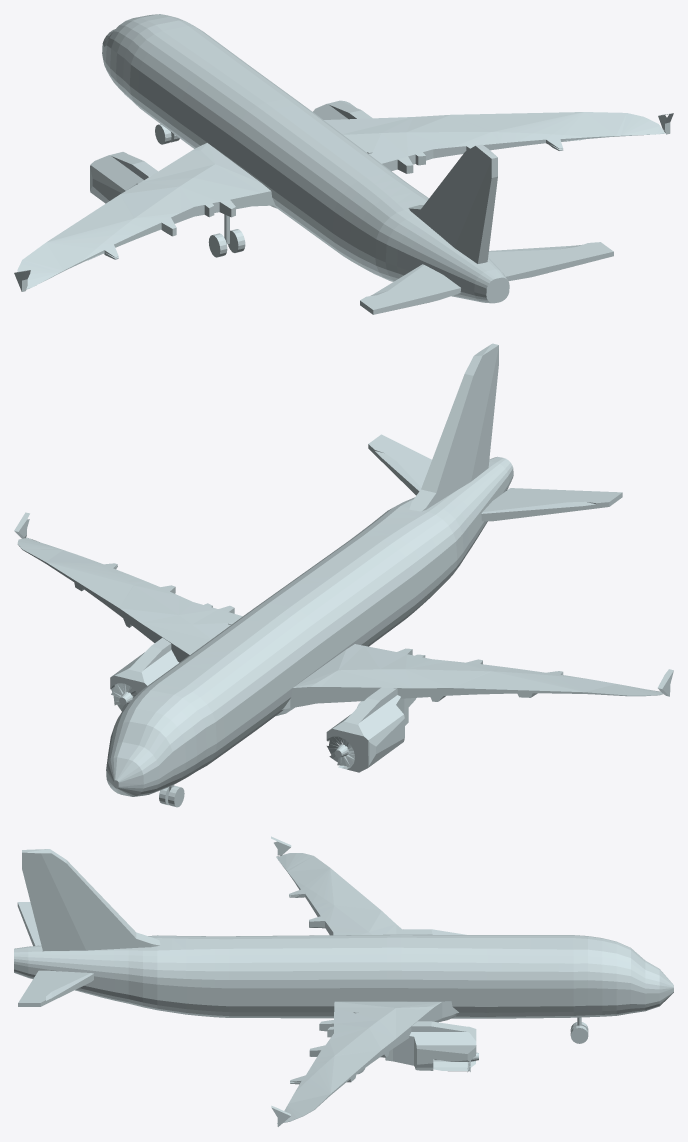
3 renders of one model, top to bottom at view 1: azimuth 30°, elevation 25°; view 2: azimuth 150°, elevation 25°; view 3: azimuth 270°, elevation 25°, orthographic. The views are drawn at different scales.
Parts seen in each view (by area): view 1: Aircraft visual hull, Landing gear; view 2: Aircraft visual hull; view 3: Aircraft visual hull.
Part boxes in pixels (x1,y1,x2,y2): Aircraft visual hull: (14,14,673,314); Landing gear: (155,124,372,257); Aircraft visual hull: (14,343,673,796); Aircraft visual hull: (14,836,673,1126).
Size of the model in its own units: 35.88 by 11.8 by 36.94.
